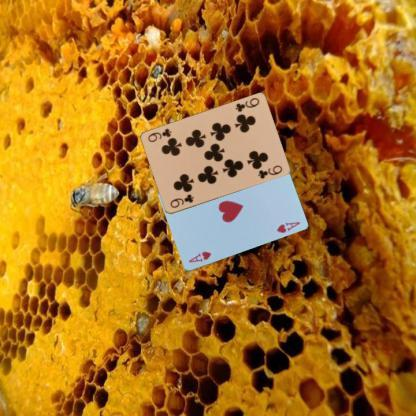9c: (232, 96, 261, 113), (168, 192, 194, 210)
Ah: (186, 249, 213, 264)
